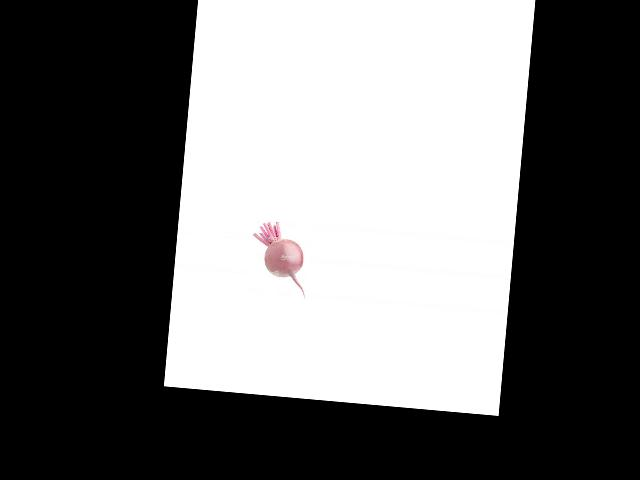beet: (247, 219, 311, 297)
